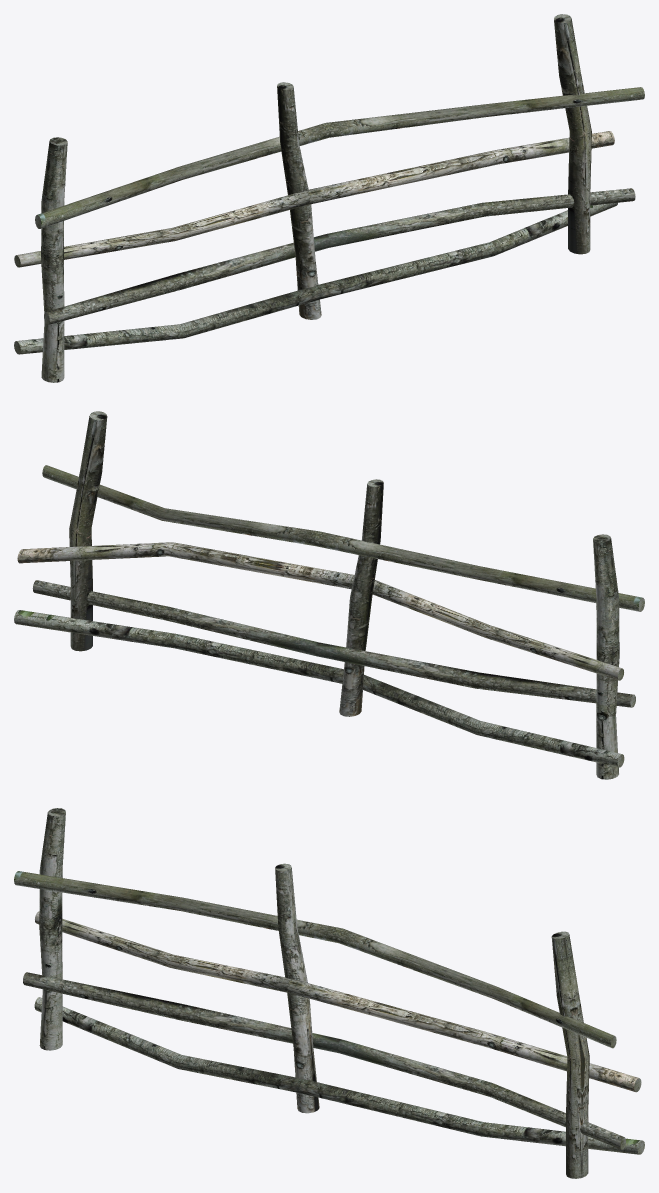
Rendered from fence3.obj.
3 renders of one model, top to bottom at view 1: azimuth 30°, elevation 25°; view 2: azimuth 150°, elevation 25°; view 3: azimuth 330°, elevation 25°, orthographic.
Visible parts, largest first — view 1: fence; view 2: fence; view 3: fence.
Boxes of the visible parts, x1,y1,x2,y2 form: fence: (14,14,644,382); fence: (14,411,644,779); fence: (14,808,644,1178).
Size of the model in its own units: 116 by 43.48 by 11.4.
1 material, 1 textured.
